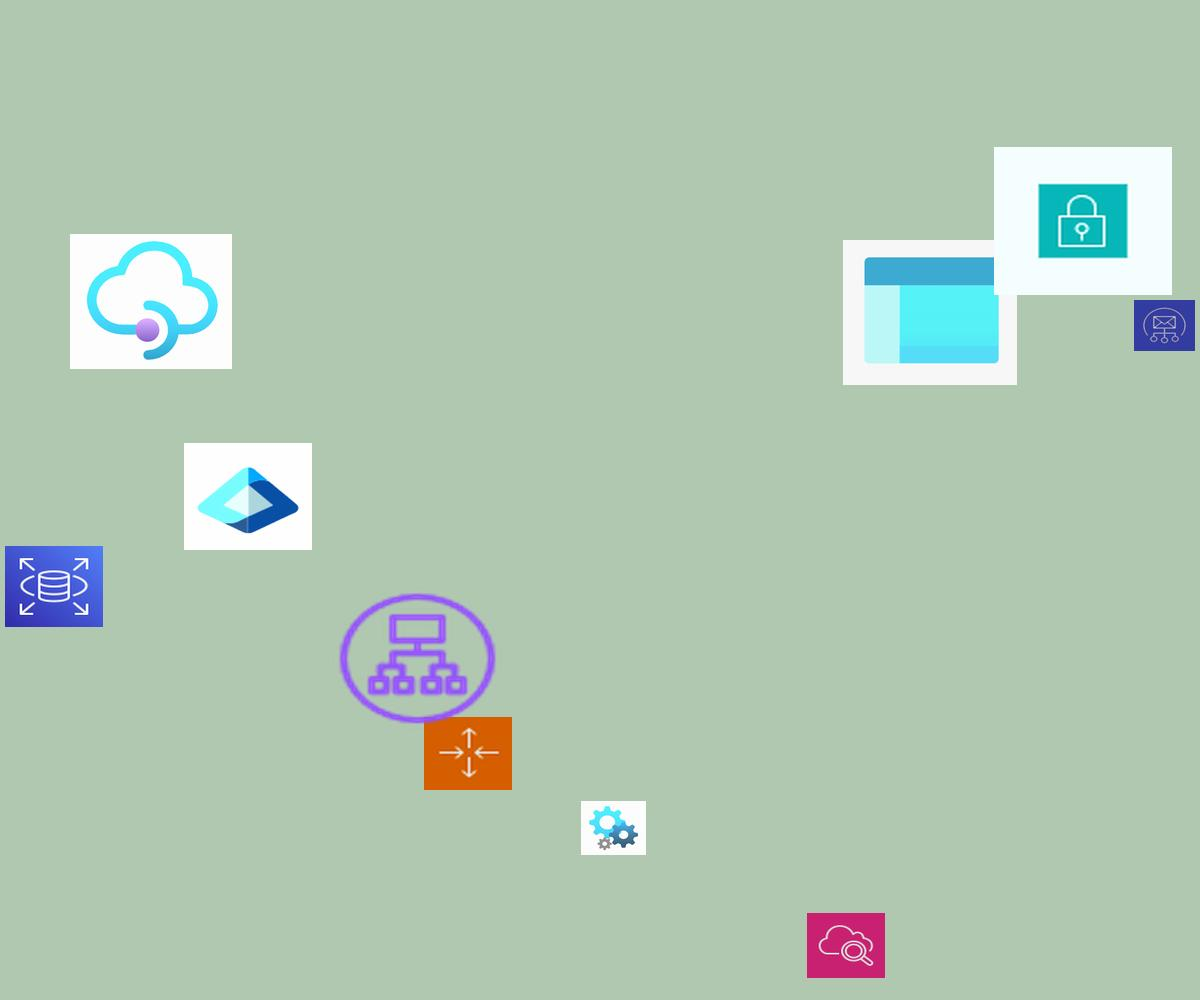AWS-CloudWatch: (807, 913, 885, 978)
AWS-Private-subnet: (994, 147, 1172, 295)
AWS-RDS: (5, 546, 103, 627)
AWS-Res_Elastic-Load-Balancing_Application-Load-Balancer: (333, 588, 502, 729)
AWS-Scaling-group: (424, 717, 512, 790)
AWS-Simple-Email-Service: (1134, 300, 1195, 351)
Azure_api: (581, 801, 646, 855)
Azure_api_gateway: (70, 234, 232, 369)
Azure_management-portal: (843, 240, 1017, 385)
Azure_microsoft_entra: (184, 443, 312, 550)
